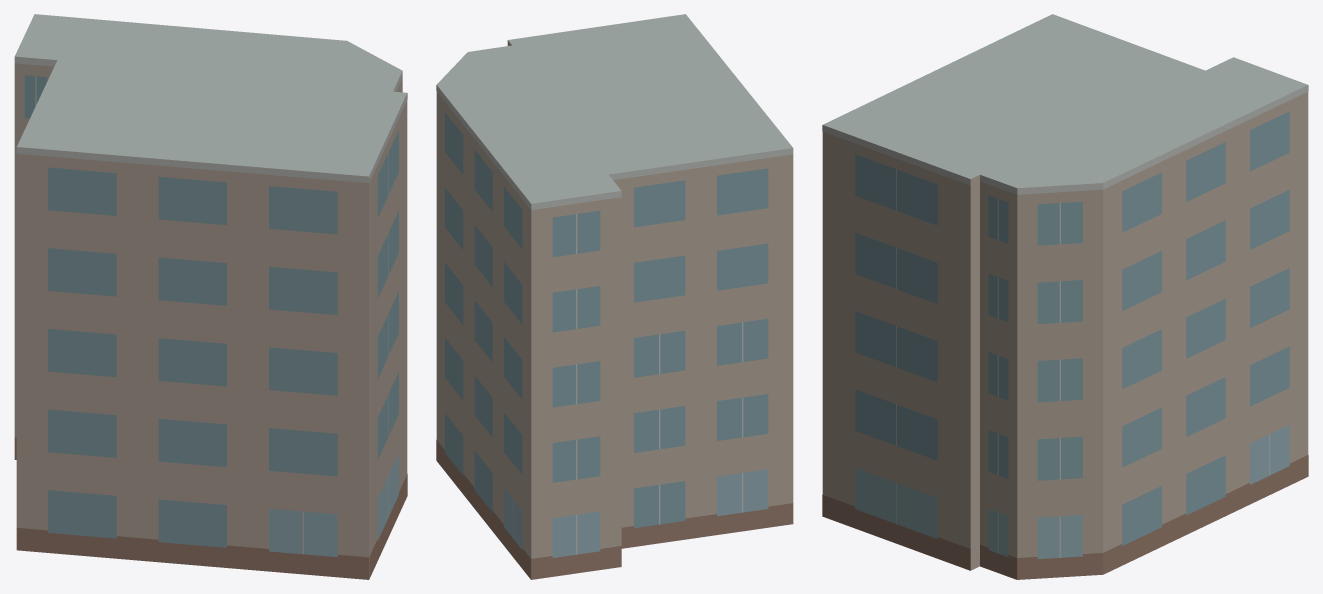
The model's file is survey-upis-32722955.glb.
The picture shows the model from 3 angles, left to right: view 1: azimuth 30°, elevation 25°; view 2: azimuth 150°, elevation 25°; view 3: azimuth 270°, elevation 25°; orthographic projection. The views are drawn at different scales.
Parts seen in each view (by area): view 1: survey-upis-32722955.tmp; view 2: survey-upis-32722955.tmp; view 3: survey-upis-32722955.tmp.
Part boxes in pixels (x1=…): survey-upis-32722955.tmp: x1=14, y1=14, x2=407, y2=579; survey-upis-32722955.tmp: x1=436, y1=14, x2=793, y2=579; survey-upis-32722955.tmp: x1=822, y1=14, x2=1308, y2=579.
Bounding box in the file's own units: 13.94 × 14.6 × 16.42.
